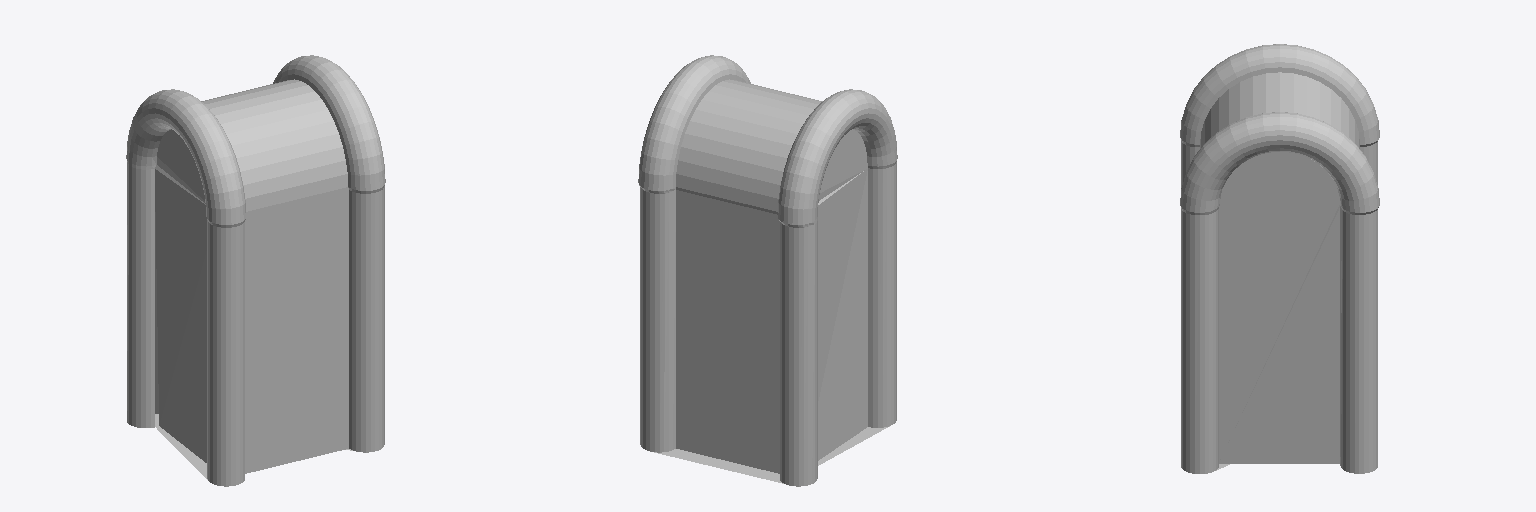
File: jukebox.obj
3 views of the same model, side by side, from view 1: azimuth 30°, elevation 25°; view 2: azimuth 150°, elevation 25°; view 3: azimuth 270°, elevation 25° (orthographic).
Parts seen in each view (by area): view 1: Cylinder.000_Cylinder.005; view 2: Cylinder.000_Cylinder.005; view 3: Cylinder.000_Cylinder.005.
Part boxes in pixels (bbox=[...]): Cylinder.000_Cylinder.005: bbox=[126, 55, 385, 486]; Cylinder.000_Cylinder.005: bbox=[638, 55, 897, 486]; Cylinder.000_Cylinder.005: bbox=[1180, 44, 1379, 473].
Size of the model in its own units: 2.51 by 4.86 by 2.5.